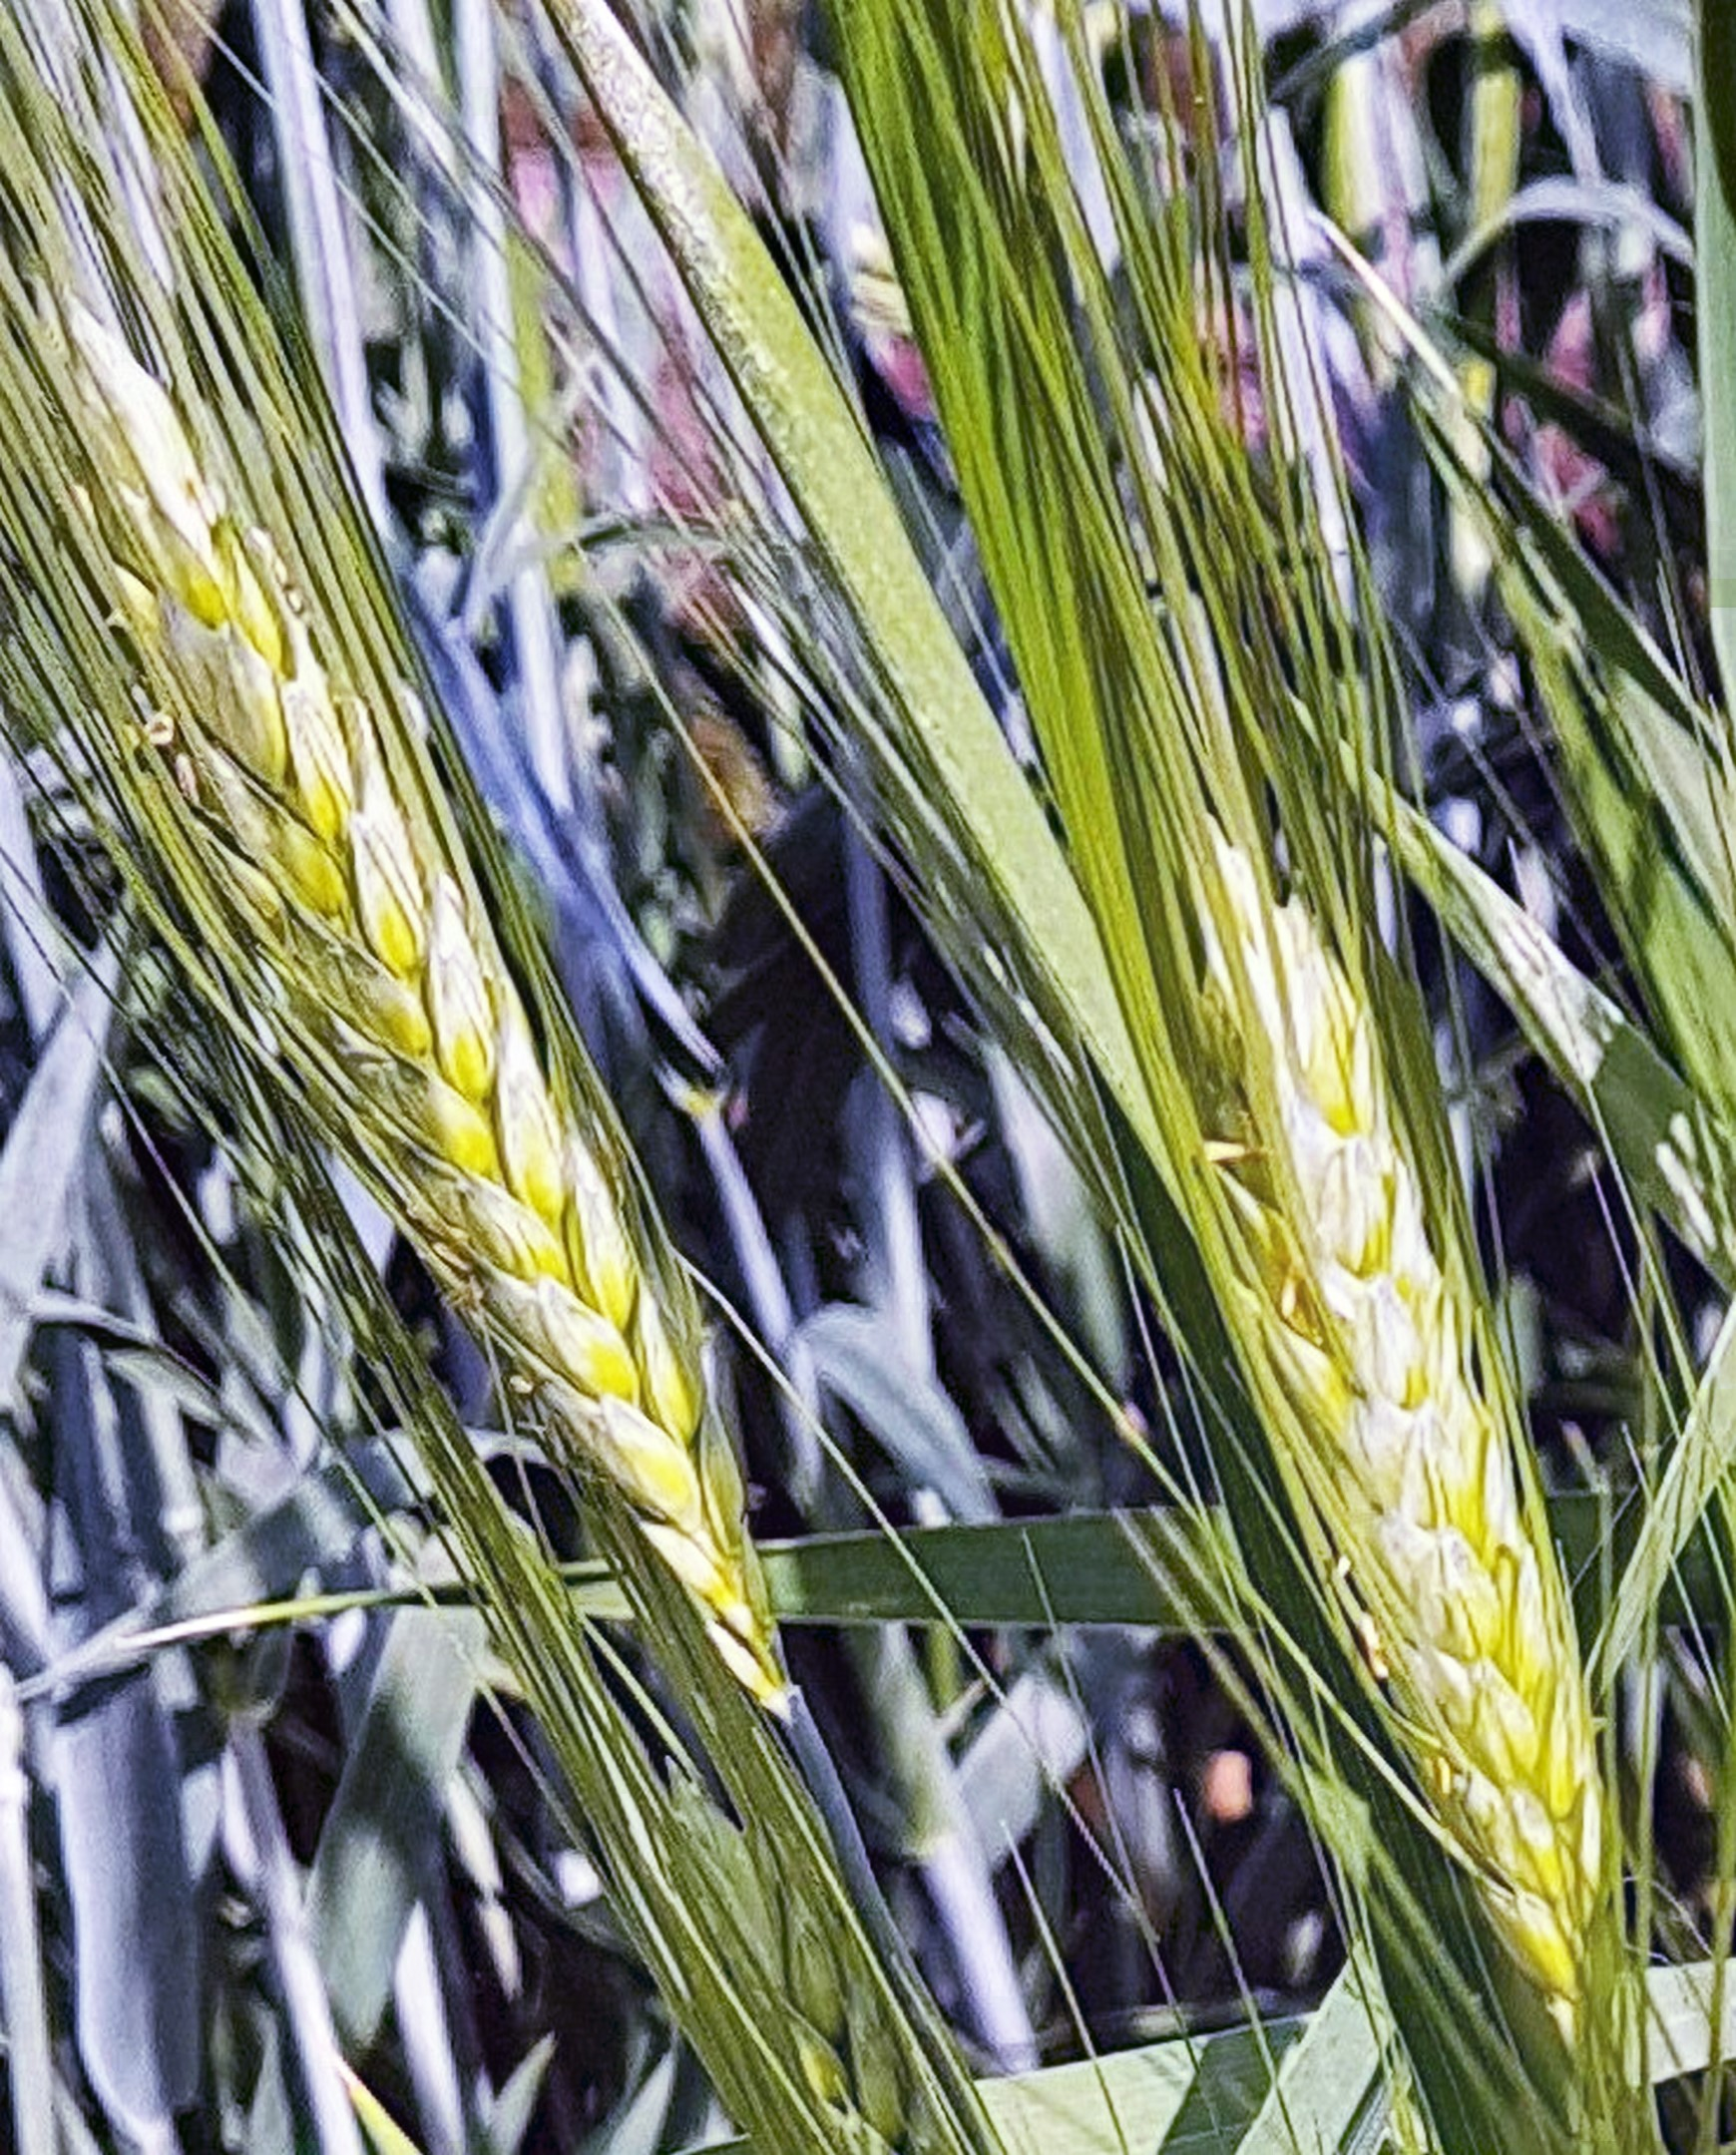Healthy Wheat: (21, 352, 748, 1626), (1141, 871, 1621, 1950)
